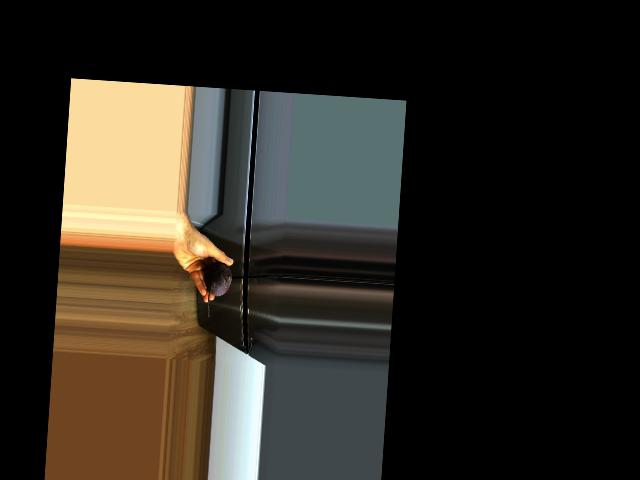beet: (202, 261, 232, 319)
